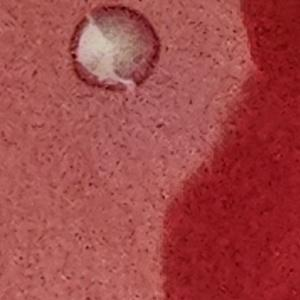colony: (62, 2, 165, 97)
